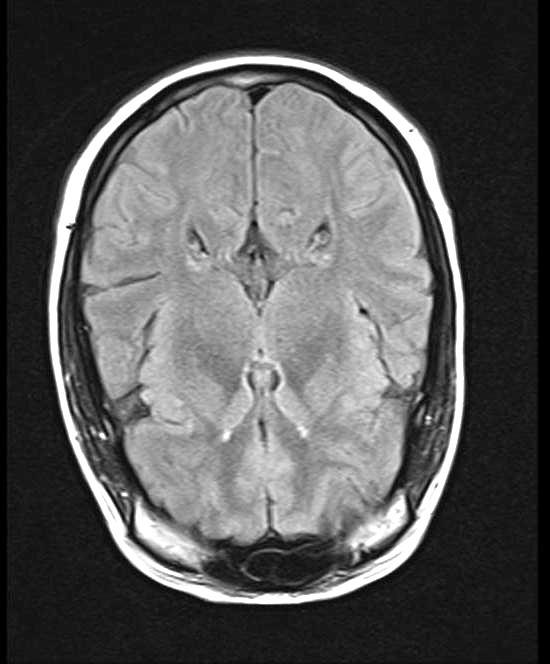Normal_Brain: (46, 1, 532, 664)
